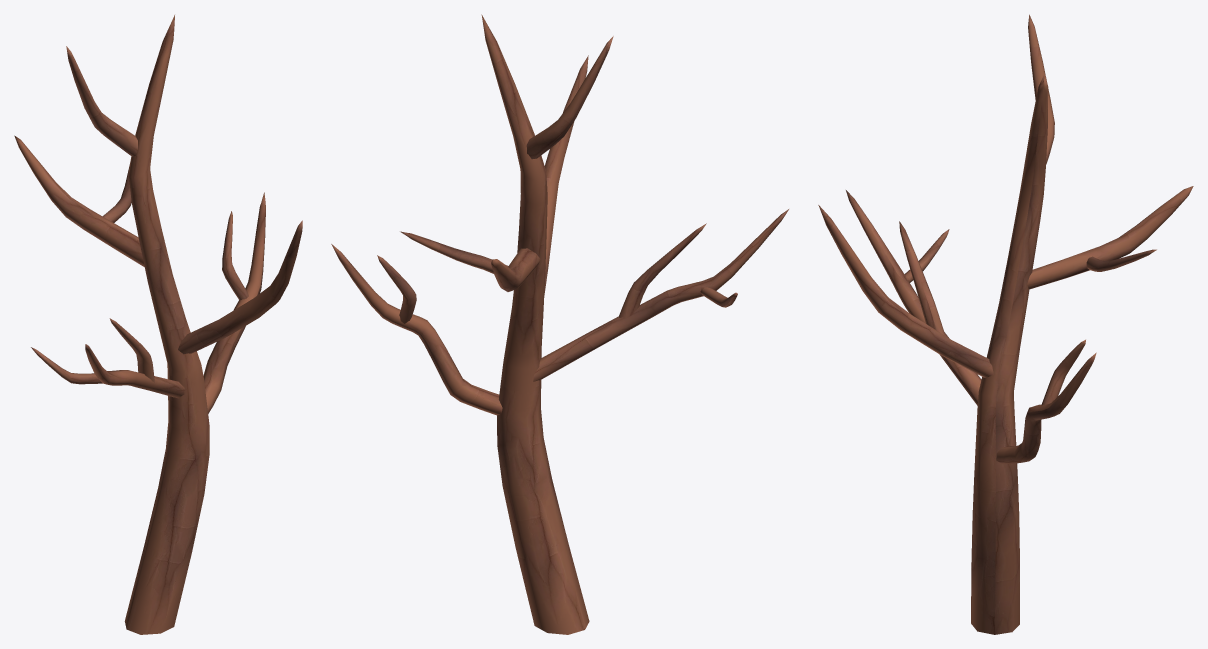
Rendered from deadtree_5.glb.
3 views of the same model, side by side, from view 1: azimuth 30°, elevation 25°; view 2: azimuth 150°, elevation 25°; view 3: azimuth 270°, elevation 25° (orthographic). The views are drawn at different scales.
Size of the model in its own units: 1.44 by 2.6 by 1.53.
1 material, 1 textured.
